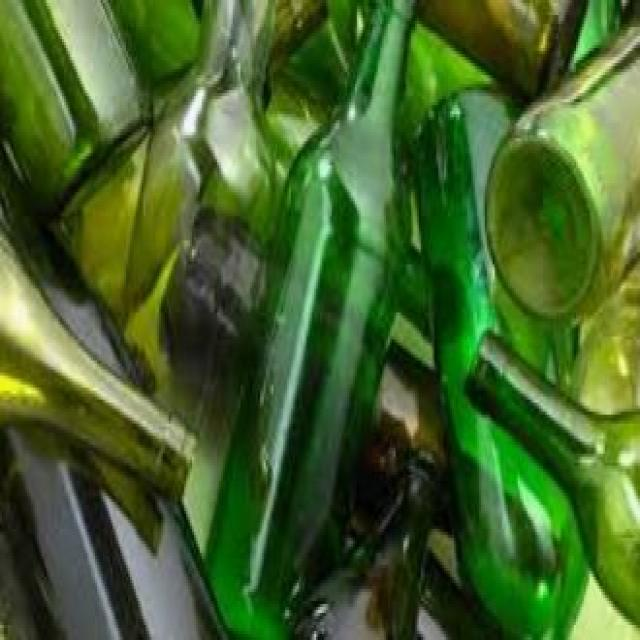electronic: (203, 0, 414, 640)
